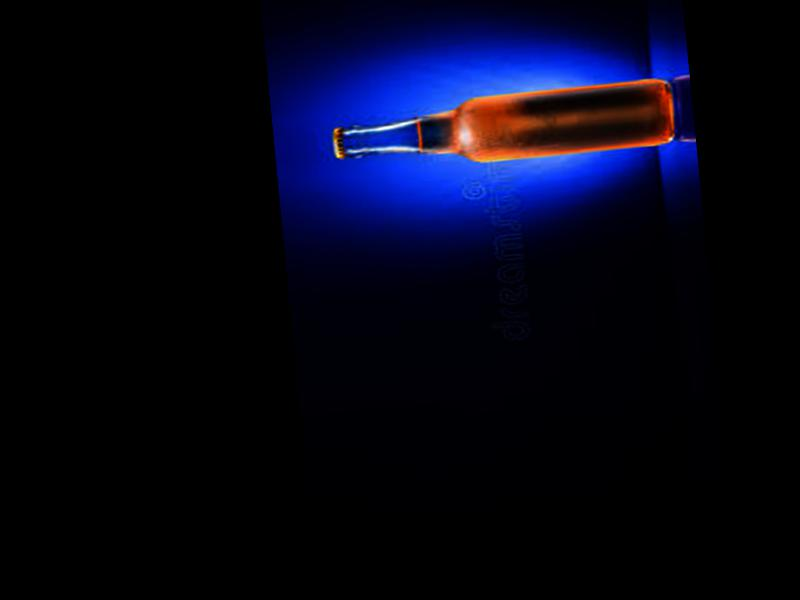Beer: (329, 74, 676, 178)
